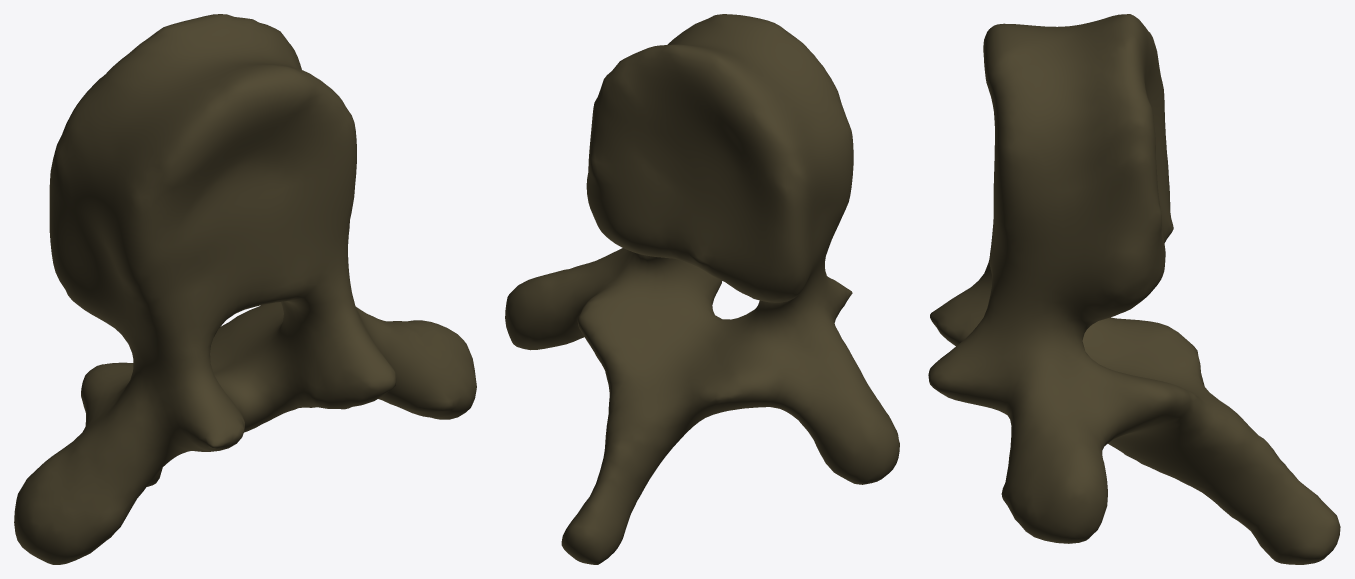
Rendered from segmentations_vertebrae_T8.obj.
3 views of the same model, side by side, from view 1: azimuth 30°, elevation 25°; view 2: azimuth 150°, elevation 25°; view 3: azimuth 270°, elevation 25° (orthographic). The views are drawn at different scales.
Visible parts, largest first — view 1: grp1; view 2: grp1; view 3: grp1.
Boxes of the visible parts, box(x1,y1,x2,y2) form: grp1: box(14, 14, 476, 564); grp1: box(505, 14, 899, 564); grp1: box(928, 14, 1340, 564).
Size of the model in its own units: 40.94 by 46.64 by 33.3.
